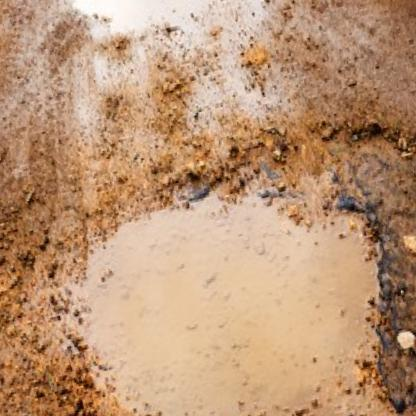pothole: (44, 136, 416, 416), (63, 0, 224, 60)
